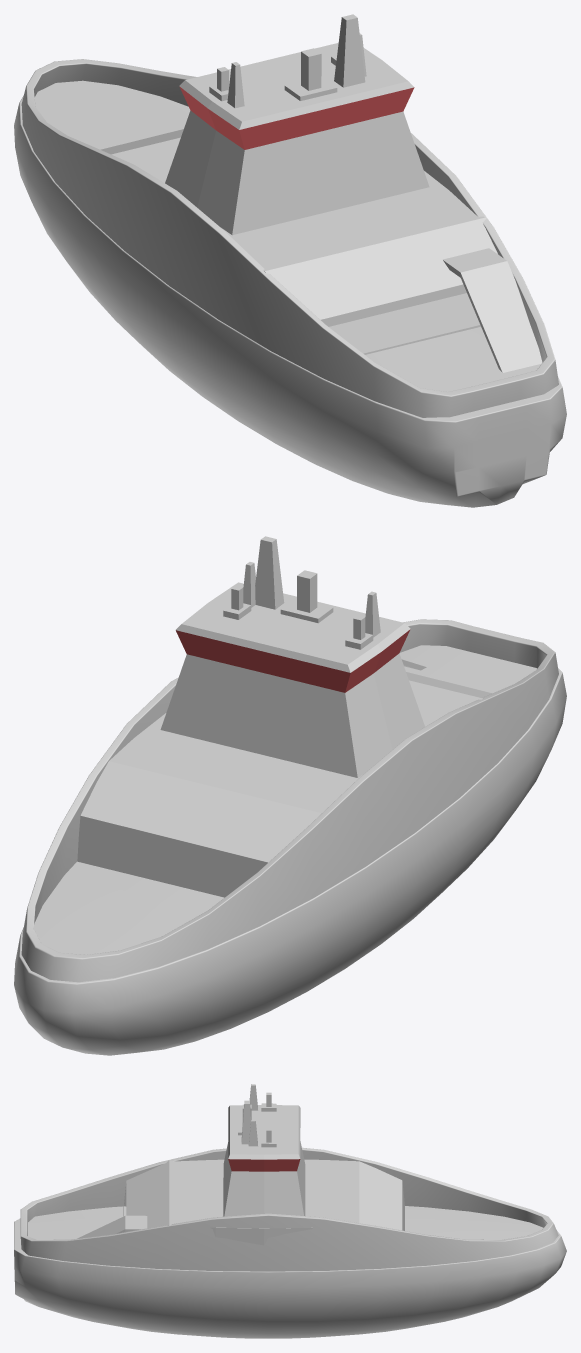
File: båtV.fbx
3 views of the same model, one above another, from view 1: azimuth 30°, elevation 25°; view 2: azimuth 150°, elevation 25°; view 3: azimuth 270°, elevation 25° (orthographic). The views are drawn at different scales.
Parts seen in each view (by area): view 1: Sphere.004; view 2: Sphere.004; view 3: Sphere.004.
Boxes of the visible parts, <box> form: Sphere.004: <box>14,14,566,507</box>; Sphere.004: <box>14,536,566,1055</box>; Sphere.004: <box>14,1084,566,1338</box>.
Size of the model in its own units: 989 by 1493 by 3116.
